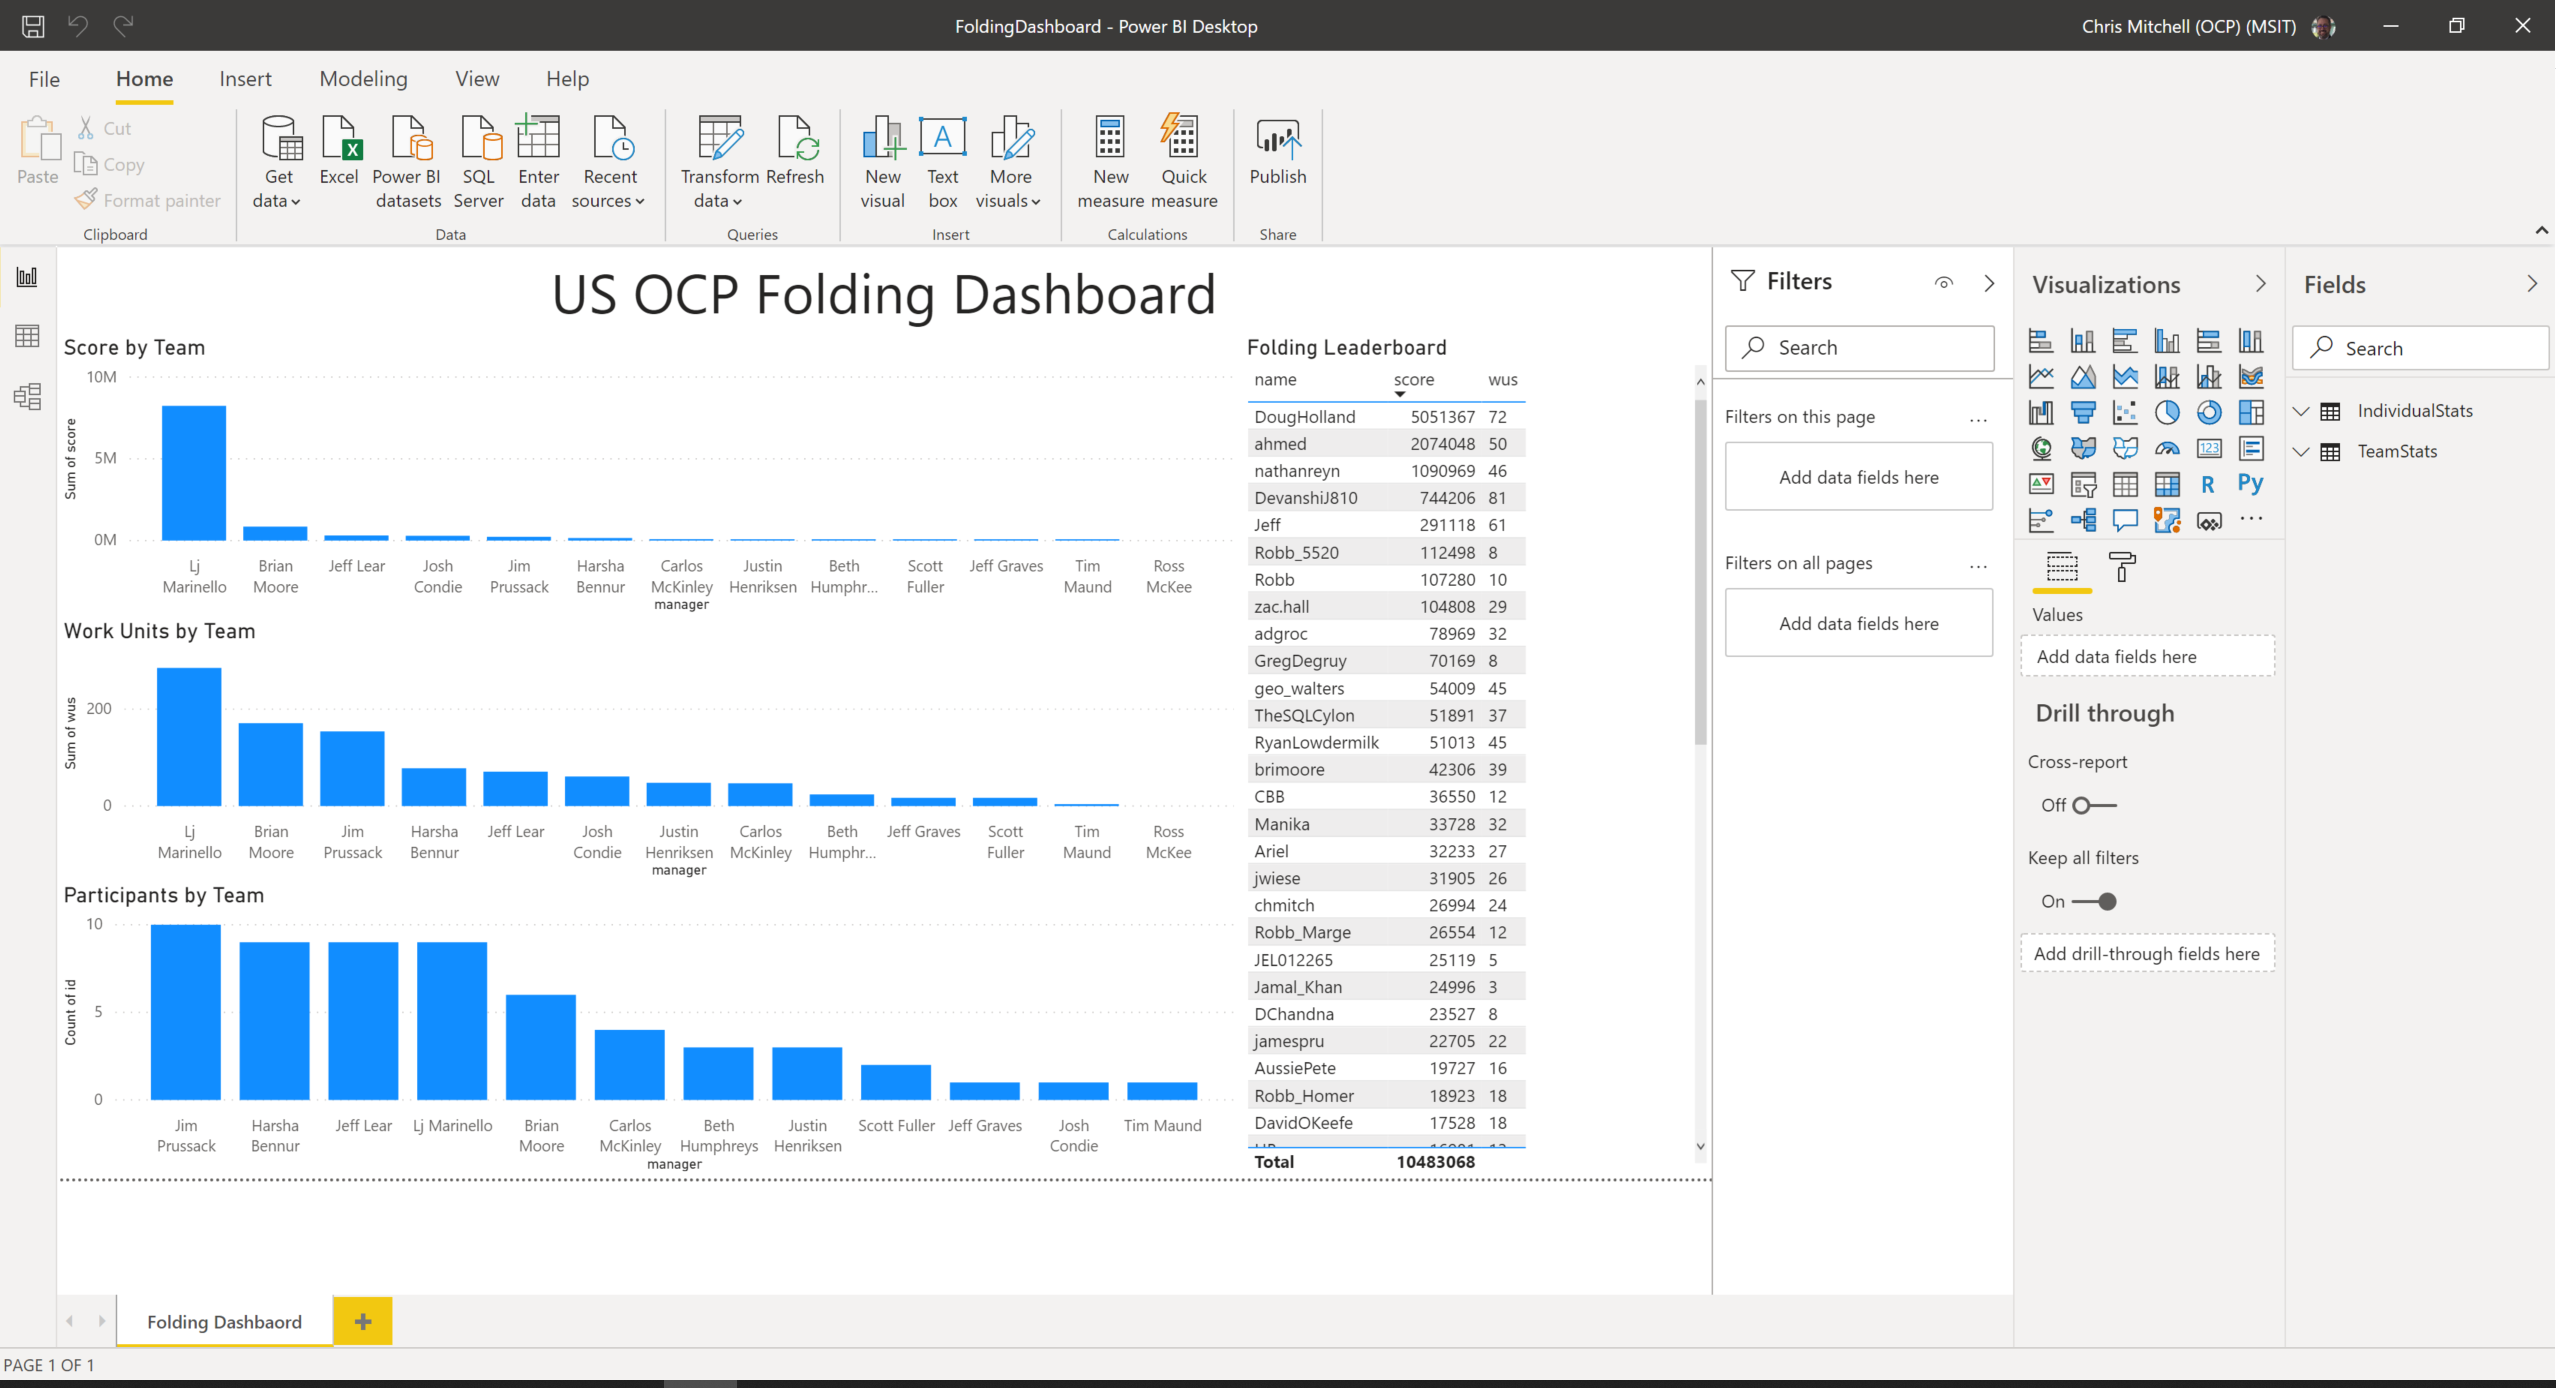

The dashboard page shown, as its layout file describes it:
{"tool":"powerbi","page":{"name":"Folding Dashbaord","canvas":[1280,720],"ordinal":0},"visuals":[{"type":"columnChart","title":"Score by Team","fields":{"Category":["TeamStats.manager"],"Y":["Sum(TeamStats.score)"]},"box":[0,67.3,915.6,219.3],"z":0},{"type":"columnChart","title":"Work Units by Team","fields":{"Category":["TeamStats.manager"],"Y":["Sum(TeamStats.wus)"]},"box":[0,286.6,915.6,205.4],"z":1},{"type":"columnChart","title":"Participants by Team","fields":{"Category":["TeamStats.manager"],"Y":["Count(IndividualStats.id)"]},"box":[0,490.9,915.6,228.6],"z":2},{"type":"tableEx","title":"Folding Leaderboard","fields":{"Values":["IndividualStats.name","Sum(IndividualStats.score)","IndividualStats.wus"]},"box":[915.6,67.3,365.5,654.5],"z":3},{"type":"textbox","box":[0,0,1280,67.3],"z":4}]}

Visuals, with their boxes on the page's 1280x720 design canvas (x1, y1, x2, y2). These are canvas units, not pixel positions in the 2556x1388 screenshot, which may show the page scaled, cropped or inside an application window:
"Score by Team" columnChart: 0:67:916:287
"Work Units by Team" columnChart: 0:287:916:492
"Participants by Team" columnChart: 0:491:916:720
"Folding Leaderboard" tableEx: 916:67:1281:722
textbox: 0:0:1280:67
